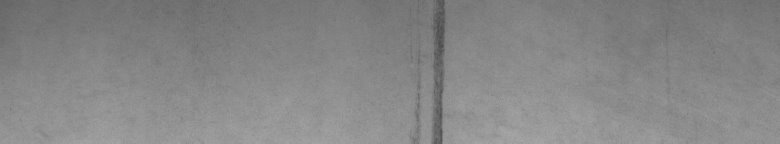hd: (415, 4, 450, 136)
